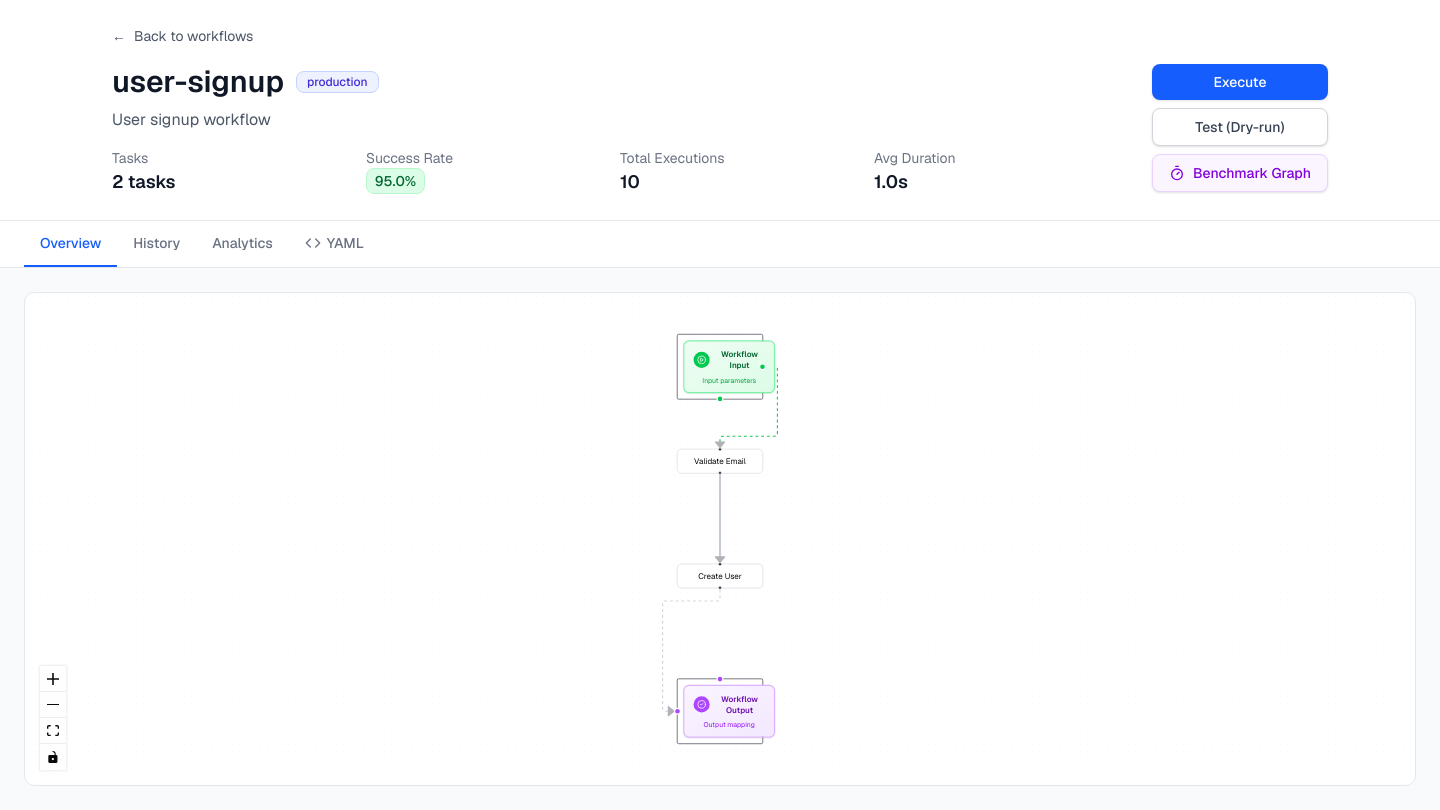
Test: WorkflowDetailTabs › YAML Tab › shows empty state when no YAML definition available
Step 1. Click the tab "YAML" → (334, 244), box [289,221,380,267]
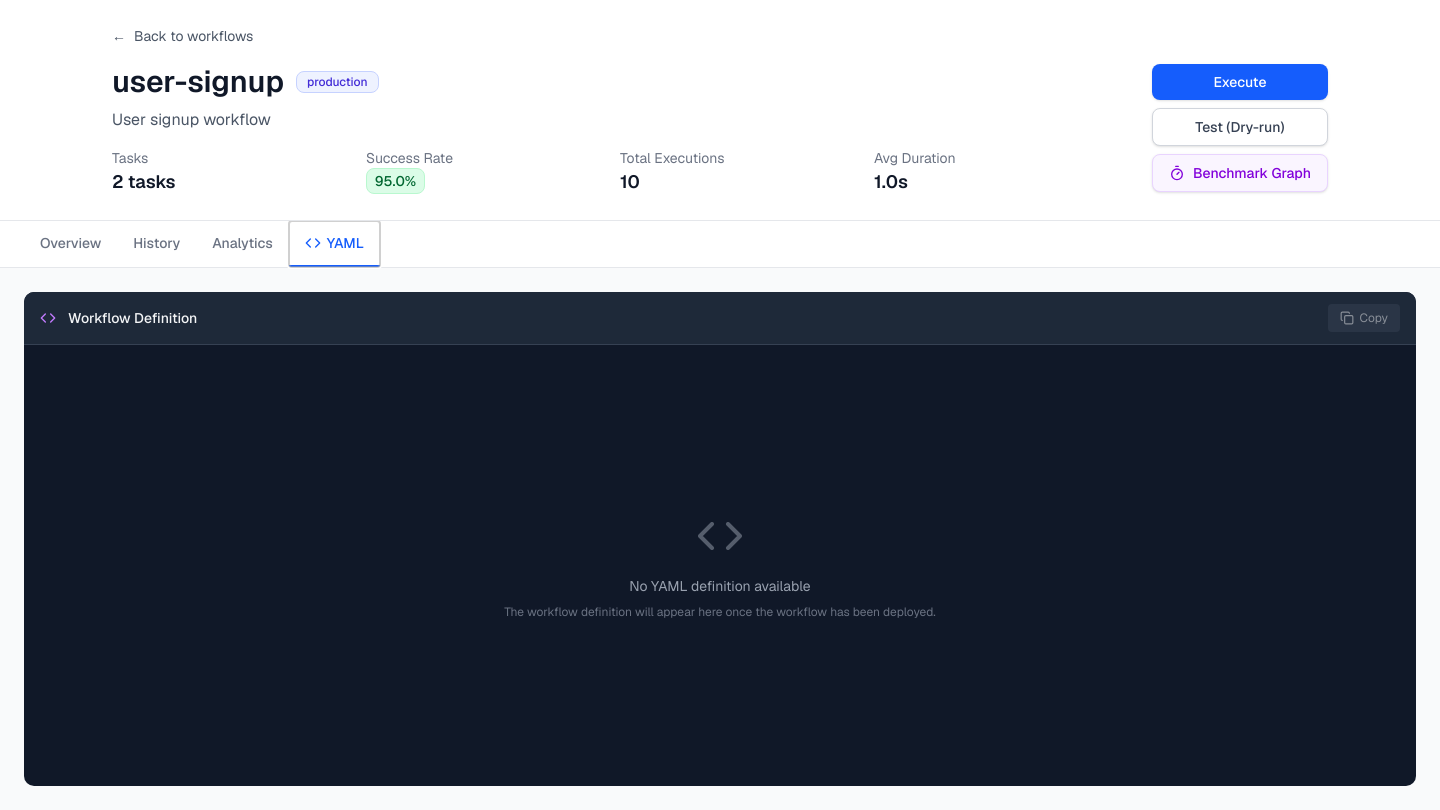
Expected: the text "No YAML definition available" is shown, [629,576,811,596]
